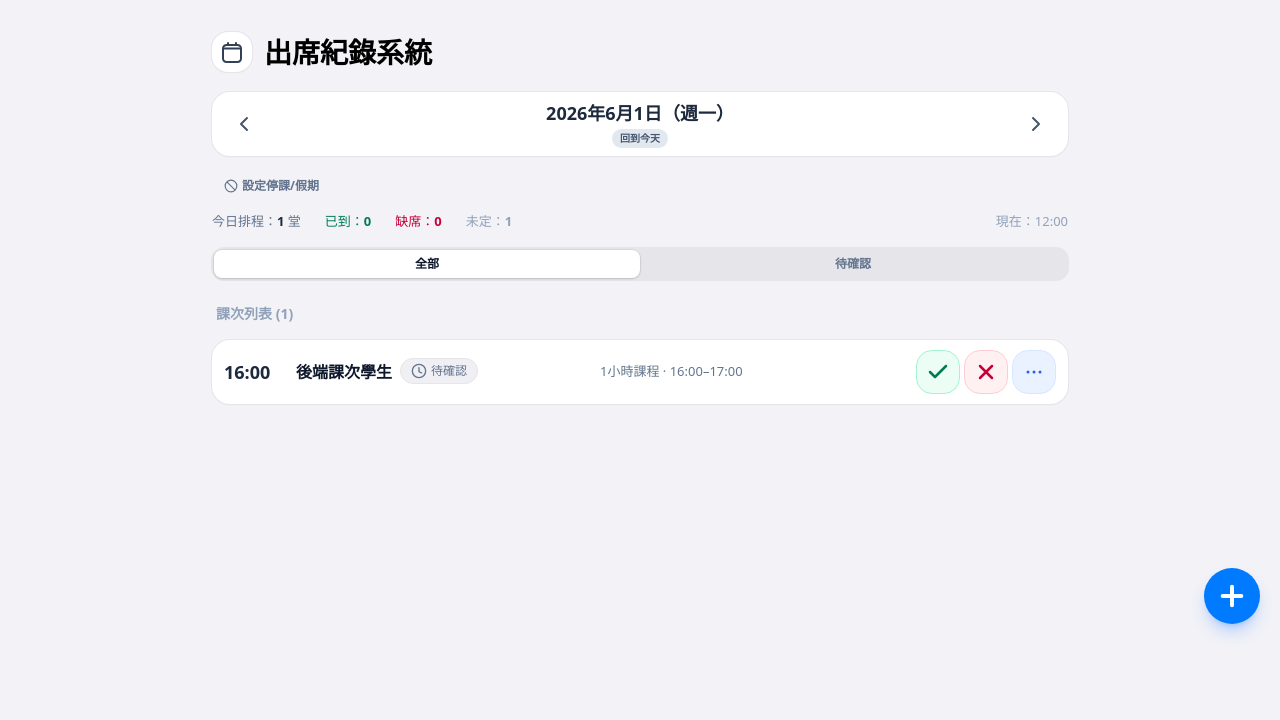
Test: TodayPage backend session status updates › updates attendance through backend PATCH when sessions backend is available
Click the button named "記錄已到".
click(938, 372)  # box x1=916 y1=350 x2=960 y2=394
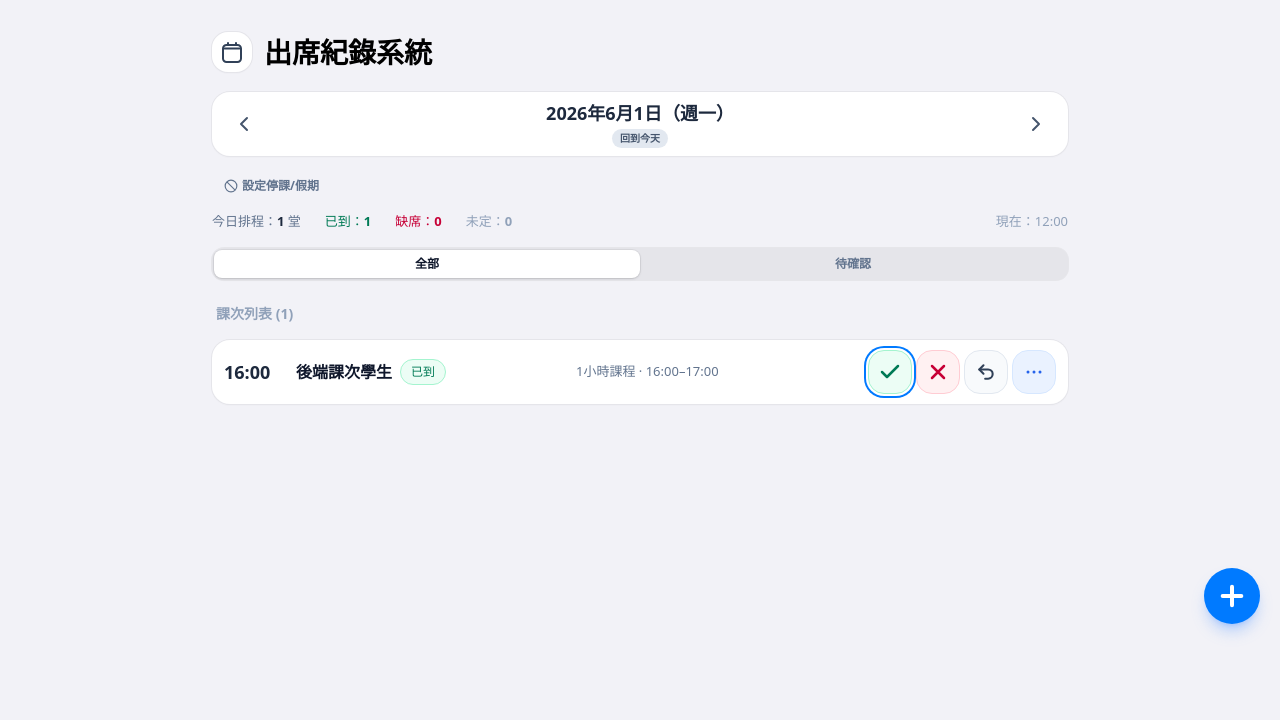
Expected: the text "已到" is shown, x1=400 y1=359 x2=446 y2=385
